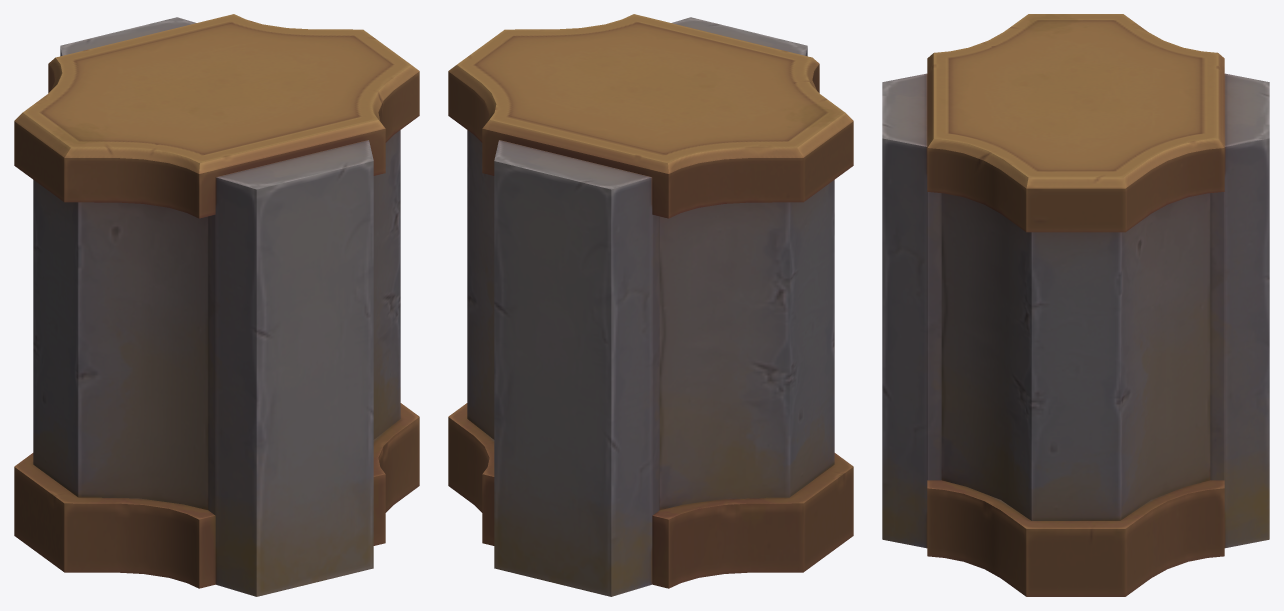
The model's file is prop_BridgePillar.fbx.
3 renders of one model, left to right at view 1: azimuth 30°, elevation 25°; view 2: azimuth 150°, elevation 25°; view 3: azimuth 270°, elevation 25°, orthographic.
Parts seen in each view (by area): view 1: prop_BridgePillar; view 2: prop_BridgePillar; view 3: prop_BridgePillar.
Part boxes in pixels (x1=…): prop_BridgePillar: x1=14, y1=14, x2=419, y2=596; prop_BridgePillar: x1=448, y1=14, x2=853, y2=596; prop_BridgePillar: x1=882, y1=14, x2=1269, y2=596.
Size of what is drawn, in the model's own units: 79.68 by 90.46 by 76.33.
